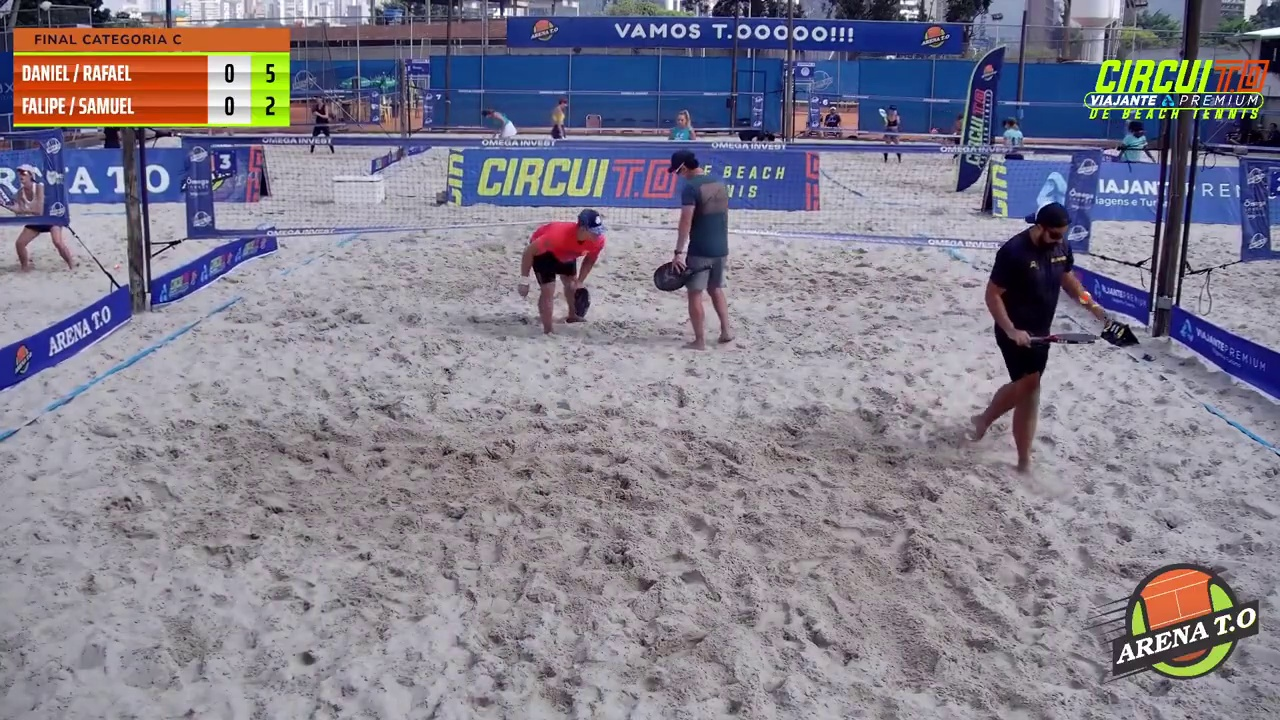court_line: (637, 0, 798, 514)
